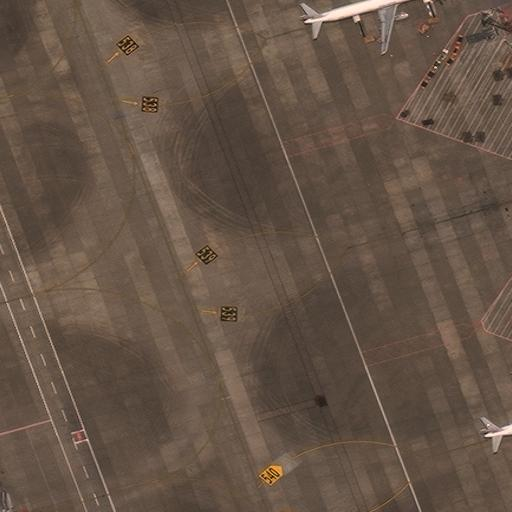Medium Civil Transport: (301, 0, 434, 50)
